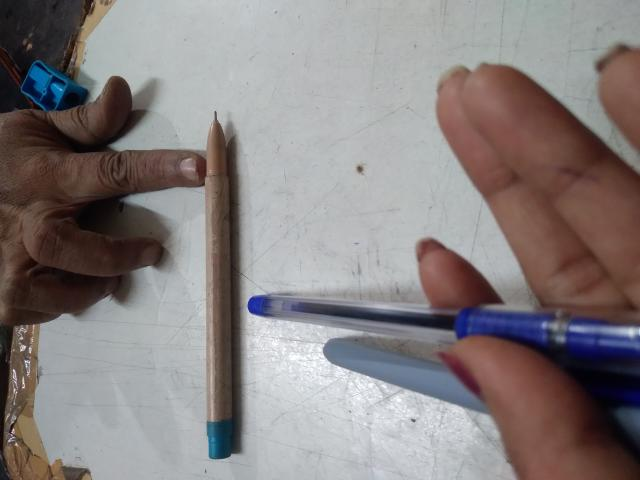PEN: (15, 187, 378, 254), (111, 239, 207, 480)
